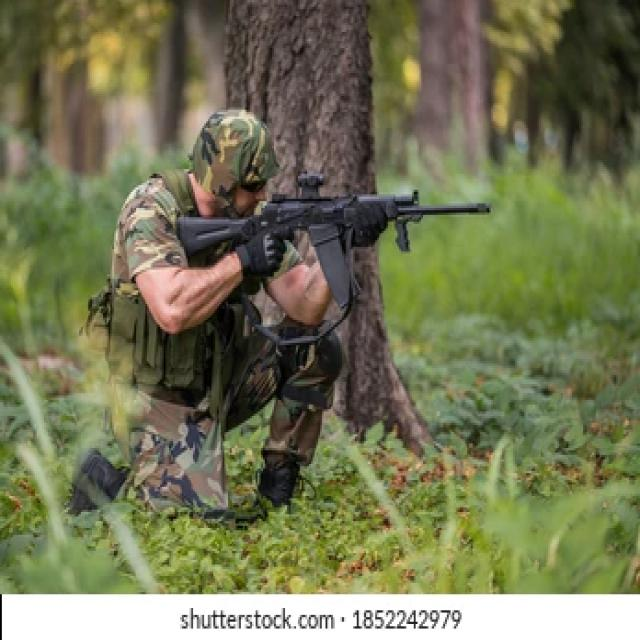soldier: (63, 107, 487, 522)
